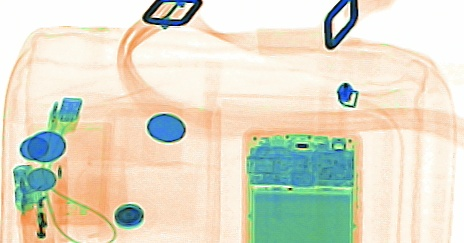lighter: (11, 161, 50, 242)
